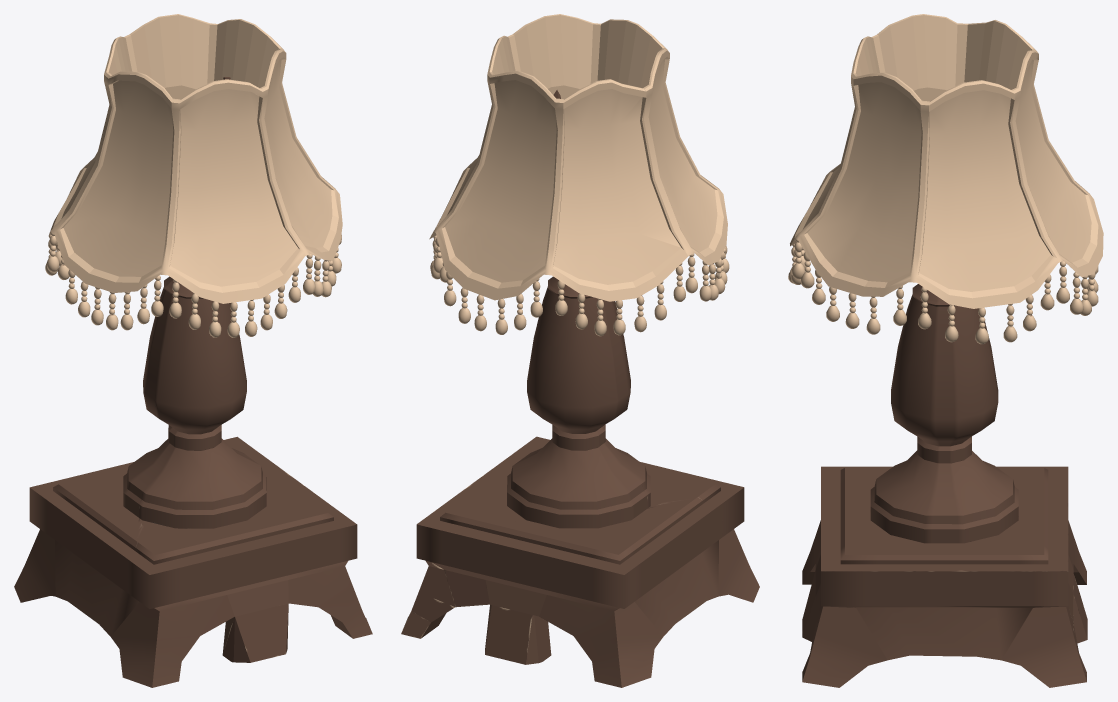
Rendered from lampe.fbx.
3 renders of one model, left to right at view 1: azimuth 30°, elevation 25°; view 2: azimuth 150°, elevation 25°; view 3: azimuth 270°, elevation 25°, orthographic. The views are drawn at different scales.
Visible parts, largest first — view 1: pCube2, pSphere48; view 2: pCube2, pSphere48; view 3: pCube2, pSphere48.
Part boxes in pixels (box(x1,y1,x2,y2)): pCube2: box(14, 14, 372, 687); pSphere48: box(45, 232, 341, 337); pCube2: box(401, 14, 759, 687); pSphere48: box(430, 235, 729, 336); pCube2: box(790, 14, 1103, 687); pSphere48: box(788, 238, 1098, 344).
Size of the model in its own units: 224 by 463 by 227.
1 material, 1 textured.
